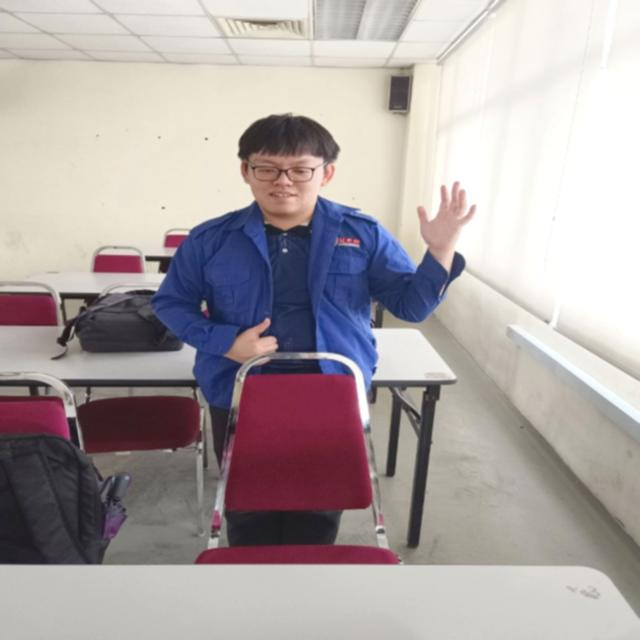person_with_labcoat: (152, 114, 475, 464)
